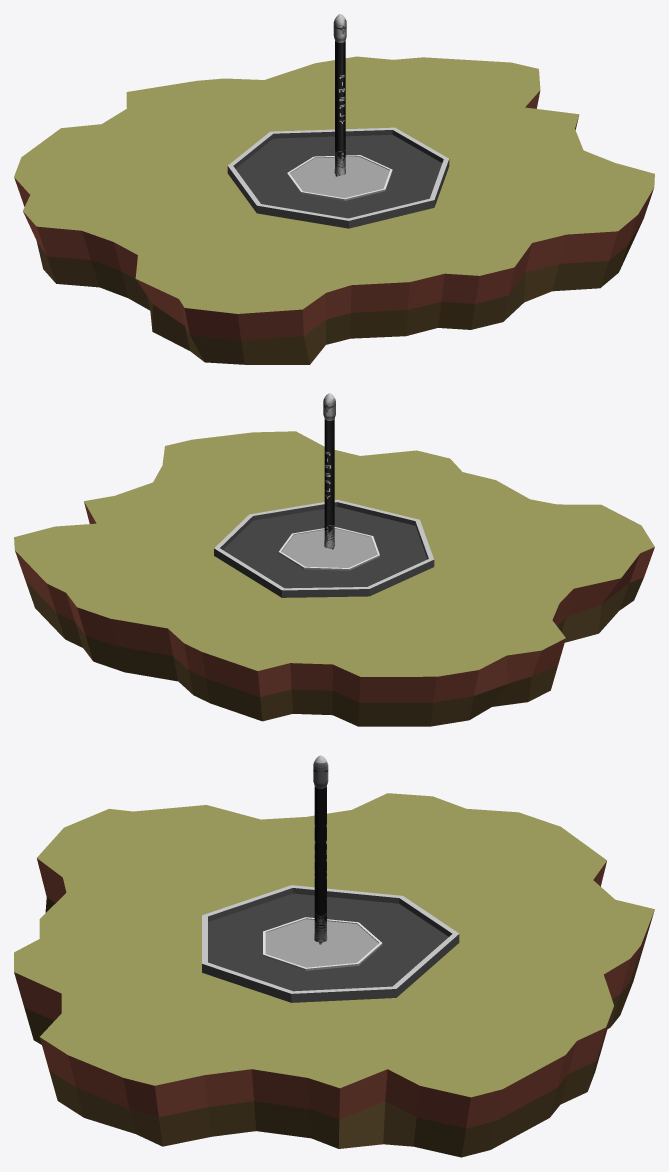
The model's file is Alpha.gltf.
3 renders of one model, top to bottom at view 1: azimuth 30°, elevation 25°; view 2: azimuth 150°, elevation 25°; view 3: azimuth 270°, elevation 25°, orthographic. The views are drawn at different scales.
Visible parts, largest first — view 1: Cylinder.001, Cylinder.005; view 2: Cylinder.001, Cylinder.005; view 3: Cylinder.001, Cylinder.005.
Boxes of the visible parts, x1,y1,x2,y2 form: Cylinder.001: (14,56,654,364); Cylinder.005: (333,14,346,176); Cylinder.001: (14,431,654,726); Cylinder.005: (323,393,335,549); Cylinder.001: (14,793,654,1157); Cylinder.005: (313,755,328,944).
Bounding box in the file's own units: 8.06 × 3.25 × 7.18.
9 materials, 1 textured.
